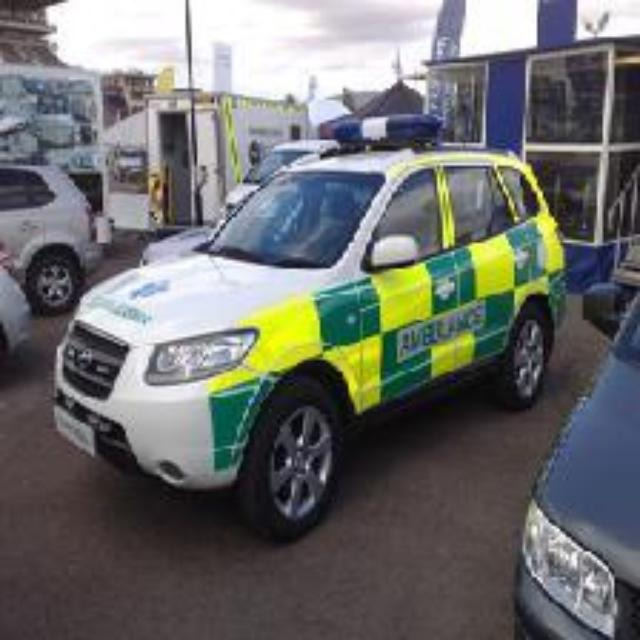emergency: (89, 115, 563, 507)
